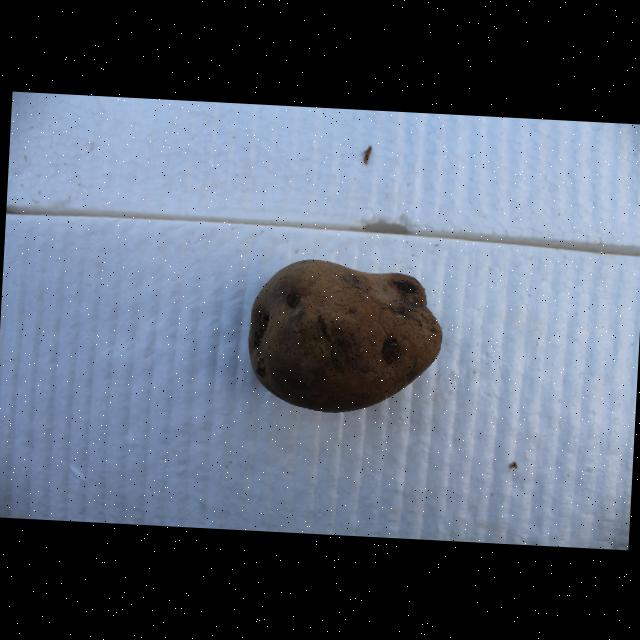Diseased-fungal potato: (235, 248, 451, 422)
